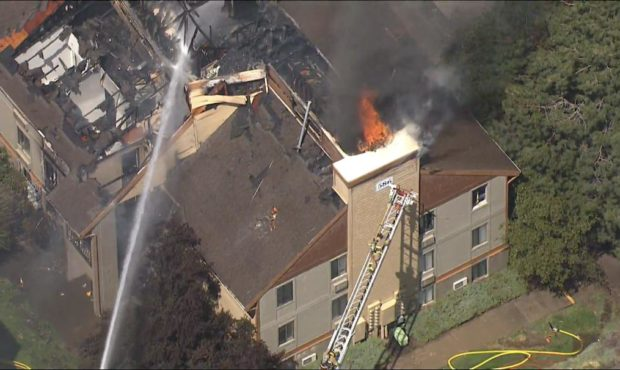fire: (360, 99, 385, 149)
smoke: (331, 18, 440, 97)
